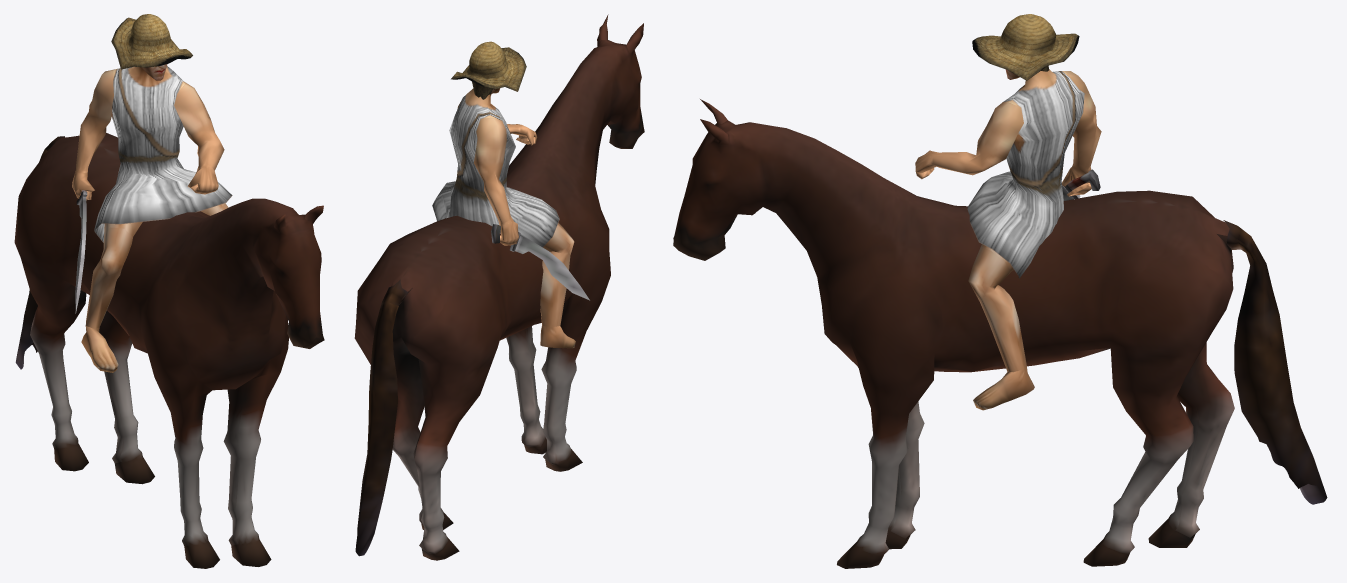
Rendered from 0ad-ancient.581d5536b61a.horseman.glb.
3 views of the same model, side by side, from view 1: azimuth 30°, elevation 25°; view 2: azimuth 150°, elevation 25°; view 3: azimuth 270°, elevation 25° (orthographic). The views are drawn at different scales.
Parts seen in each view (by area): view 1: units/athenians/cavalry_swordsman_b_m.xml; view 2: units/athenians/cavalry_swordsman_b_m.xml; view 3: units/athenians/cavalry_swordsman_b_m.xml.
Boxes of the visible parts, x1,y1,x2,y2 form: units/athenians/cavalry_swordsman_b_m.xml: [14, 14, 324, 568]; units/athenians/cavalry_swordsman_b_m.xml: [354, 14, 644, 560]; units/athenians/cavalry_swordsman_b_m.xml: [673, 14, 1327, 568].
Size of the model in its own units: 2.34 by 6.21 by 6.91.
2 materials, 2 textured.
